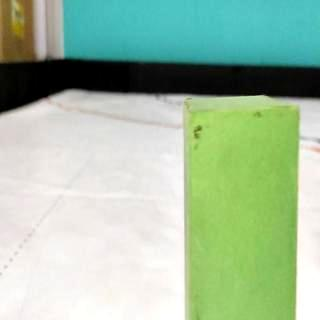greenbox: (183, 96, 297, 320)
